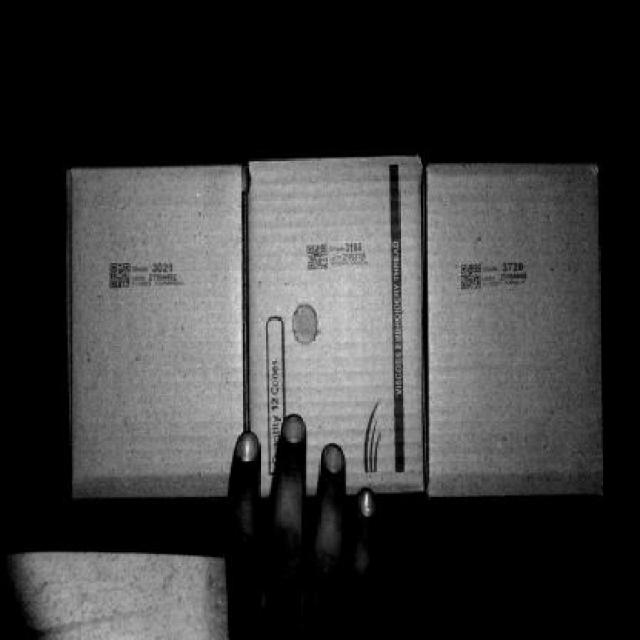cardboxes: (429, 163, 605, 494), (78, 164, 244, 502), (255, 156, 418, 490)
